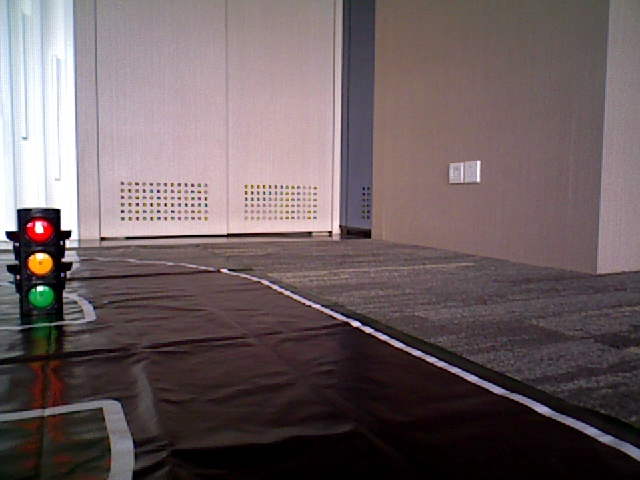red: (20, 213, 58, 313)
